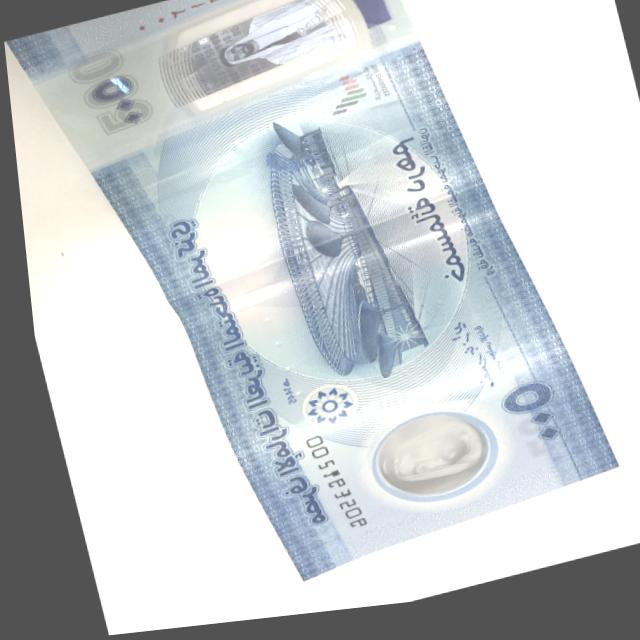500_AED: (4, 0, 621, 586)
